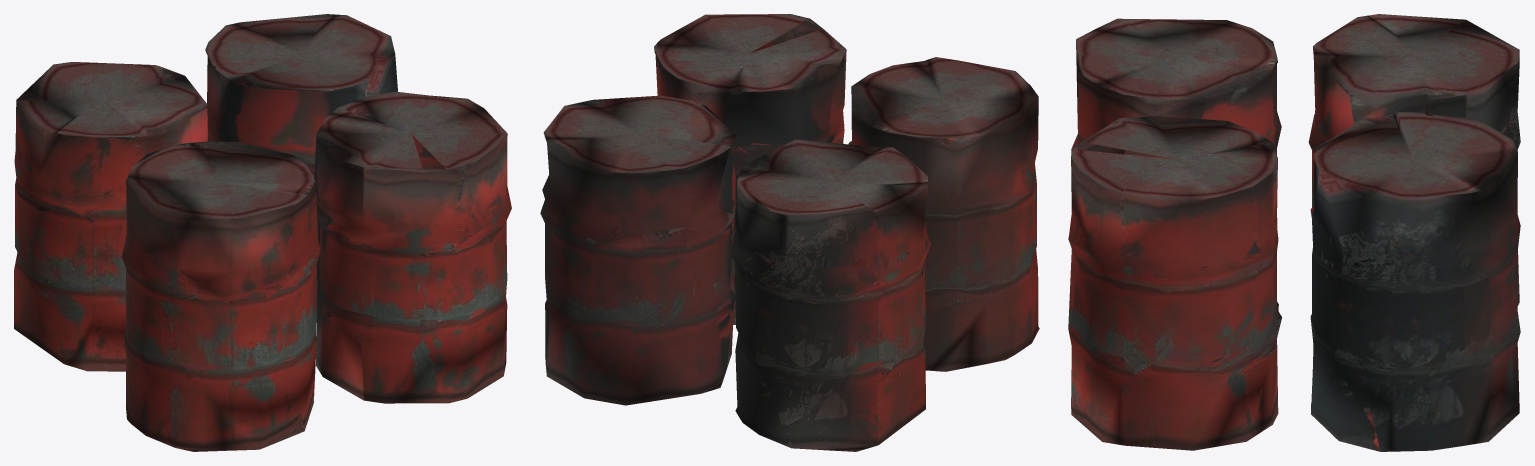
Rendered from oil_drums.glb.
3 views of the same model, side by side, from view 1: azimuth 30°, elevation 25°; view 2: azimuth 150°, elevation 25°; view 3: azimuth 270°, elevation 25° (orthographic). The views are drawn at different scales.
Size of the model in its own units: 1.46 by 0.8992 by 1.44.
1 material, 1 textured.
